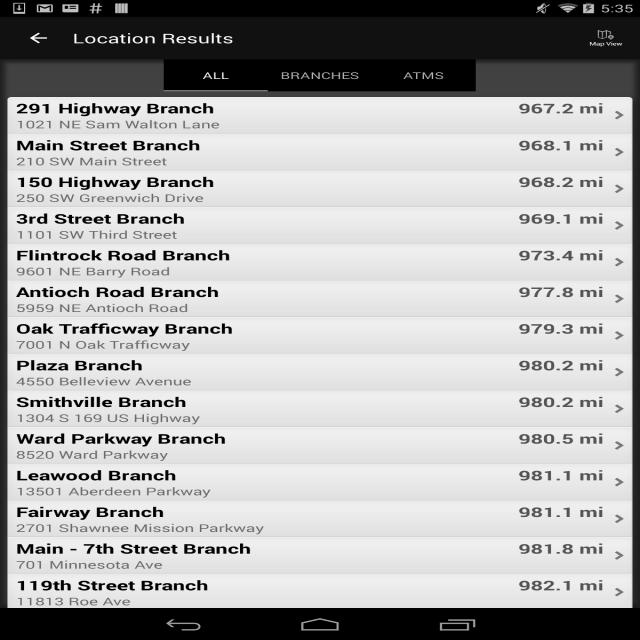ImageButton: (9, 19, 68, 57)
ImageView: (614, 209, 624, 242), (614, 319, 624, 352), (614, 429, 624, 462), (614, 539, 624, 572), (614, 99, 624, 131), (614, 136, 624, 168), (614, 173, 624, 205), (614, 246, 624, 278), (614, 283, 624, 315), (614, 356, 624, 388), (614, 393, 624, 425), (614, 466, 624, 498), (614, 503, 624, 535), (614, 576, 624, 608)
TextView: (16, 99, 518, 117), (16, 136, 518, 154), (16, 172, 518, 190), (16, 210, 518, 228), (16, 246, 518, 264), (16, 282, 518, 300), (16, 320, 518, 338), (16, 356, 518, 374), (16, 392, 518, 410), (16, 430, 518, 448), (16, 466, 518, 484), (16, 502, 518, 520), (16, 540, 518, 558), (16, 576, 518, 594), (16, 227, 518, 242), (16, 337, 518, 352), (16, 447, 518, 462), (16, 557, 518, 572), (16, 117, 518, 131), (16, 154, 518, 168), (16, 191, 518, 205), (16, 264, 518, 278), (16, 301, 518, 315), (16, 374, 518, 388), (16, 411, 518, 425), (16, 484, 518, 498), (16, 521, 518, 535), (16, 594, 518, 608), (72, 29, 234, 47), (518, 209, 604, 242), (518, 319, 604, 352), (518, 429, 604, 462), (518, 539, 604, 572), (518, 99, 604, 131), (518, 136, 604, 168), (518, 173, 604, 205), (518, 246, 604, 278), (518, 283, 604, 315), (518, 356, 604, 388), (518, 393, 604, 425), (518, 466, 604, 498), (518, 503, 604, 535), (518, 576, 604, 608), (580, 22, 632, 54), (280, 69, 359, 82), (403, 69, 444, 82), (202, 69, 228, 82)
